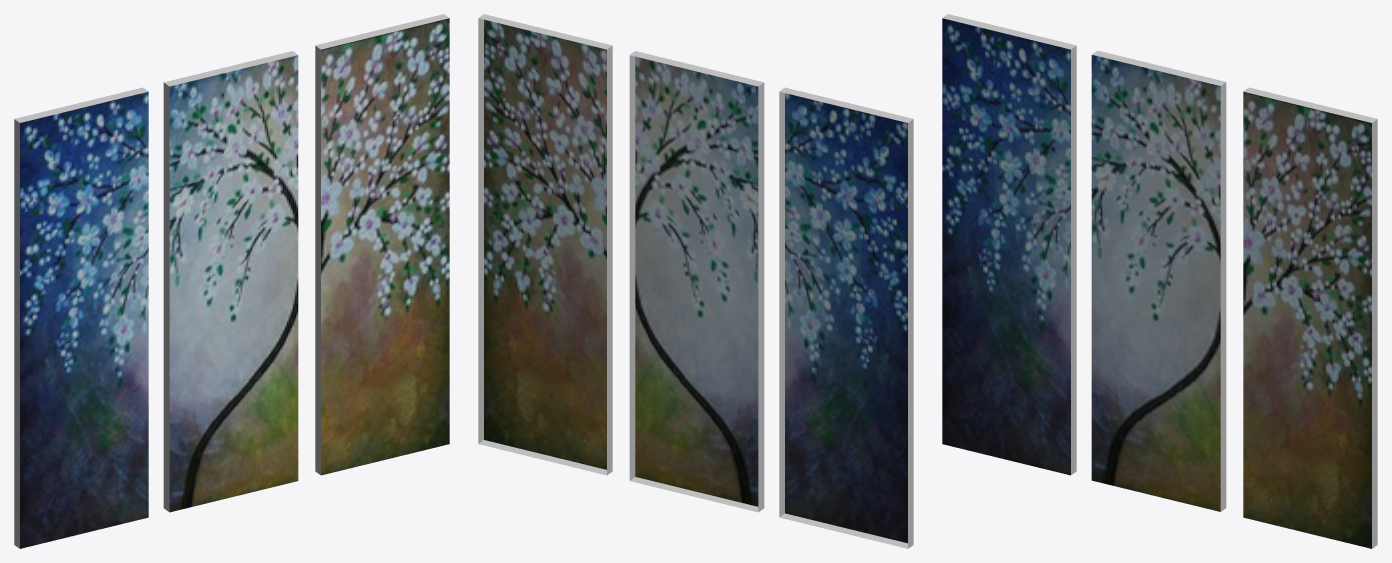
The model's file is painting3.FBX.
3 views of the same model, side by side, from view 1: azimuth 30°, elevation 25°; view 2: azimuth 150°, elevation 25°; view 3: azimuth 330°, elevation 25° (orthographic).
Parts seen in each view (by area): view 1: painting3; view 2: painting3; view 3: painting3.
Boxes of the visible parts, x1=… form: painting3: x1=14, y1=14, x2=449, y2=548; painting3: x1=478, y1=14, x2=913, y2=548; painting3: x1=942, y1=14, x2=1377, y2=548.
Size of the model in its own units: 38.66 by 0.8936 by 36.6.
